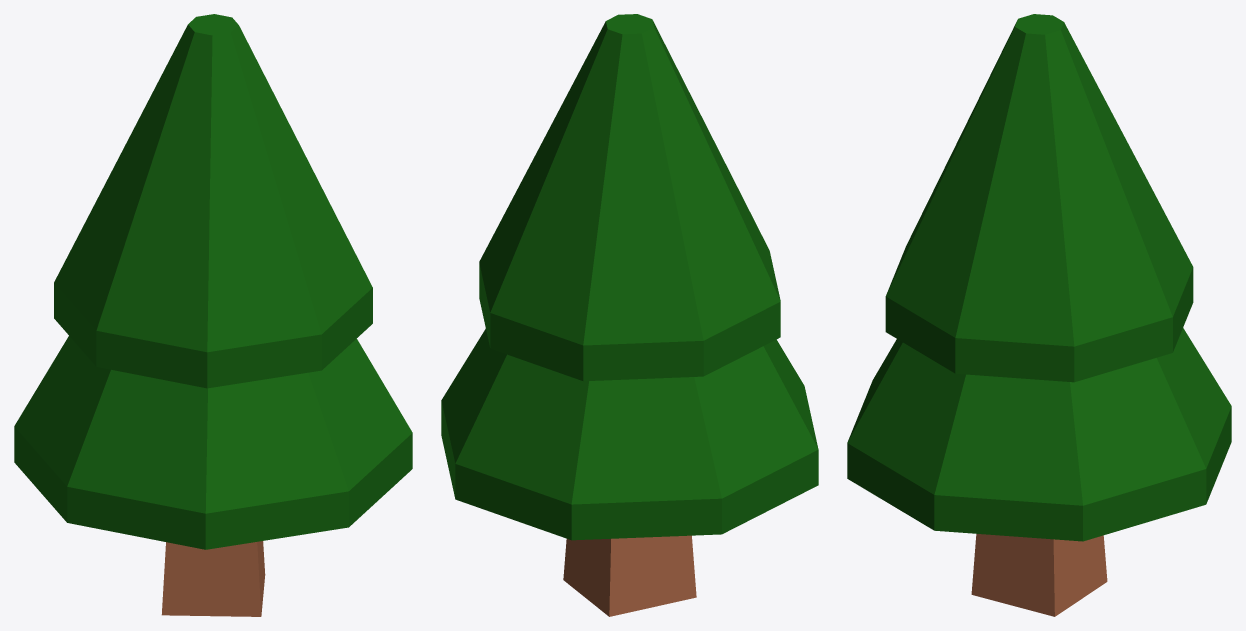
The model's file is TreeSingleCornerUpwards.obj.
The picture shows the model from 3 angles, left to right: view 1: azimuth 30°, elevation 25°; view 2: azimuth 150°, elevation 25°; view 3: azimuth 270°, elevation 25°; orthographic projection.
Visible parts, largest first — view 1: tree.004_tree.016; view 2: tree.004_tree.016; view 3: tree.004_tree.016.
Boxes of the visible parts, x1,y1,x2,y2 form: tree.004_tree.016: (14, 14, 412, 616); tree.004_tree.016: (441, 14, 818, 616); tree.004_tree.016: (847, 14, 1231, 616).
Bounding box in the file's own units: 0.6443 × 1.04 × 0.6443.
